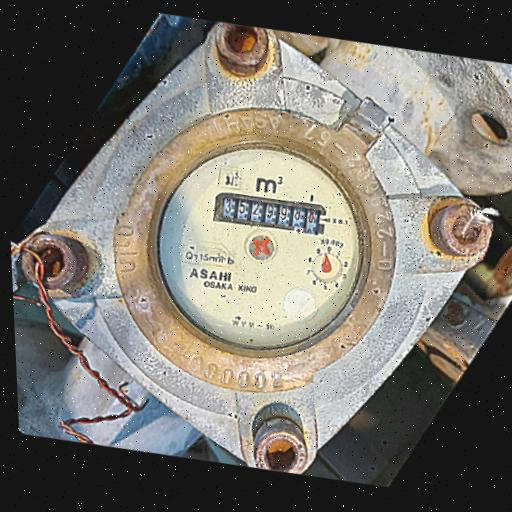2: (250, 200, 263, 221)
3: (220, 195, 236, 218)
5: (235, 198, 249, 219)
8: (304, 207, 318, 234), (291, 205, 305, 226)
9: (263, 201, 277, 222), (277, 203, 291, 224)
border_water_meter_number: (211, 185, 330, 240)
